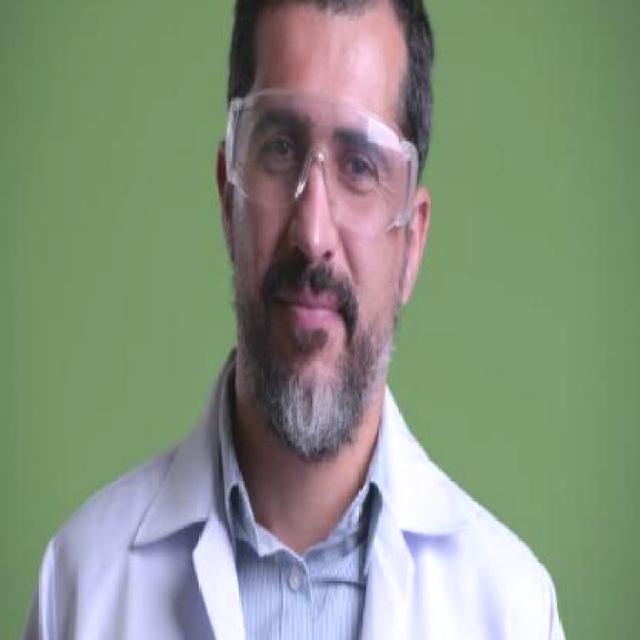face_nomask: (224, 100, 418, 358)
glasses: (224, 89, 422, 245)
person: (30, 0, 579, 640)
